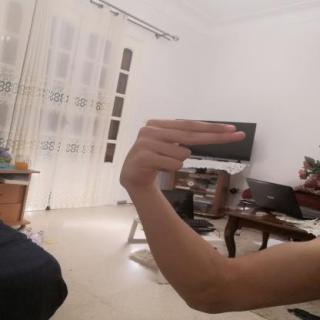AYN: (110, 111, 252, 186)
